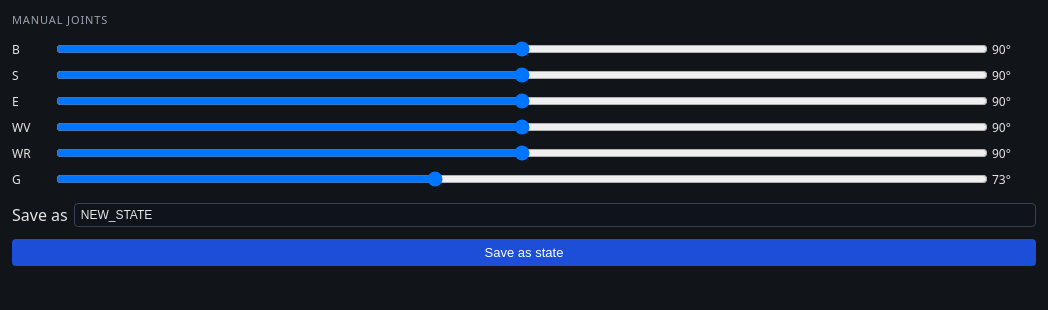
Test: ManualJointPanel › surfaces errors from api.saveState
Click the button with test id "manual-joint-save": [524, 252] box [12,239,1036,266]
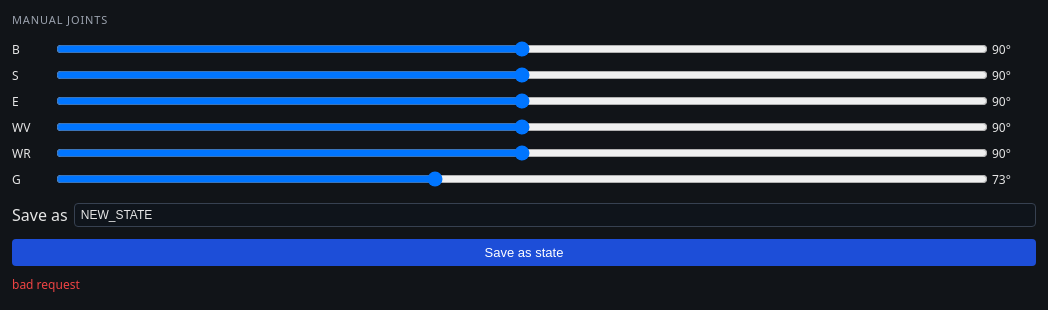
Expected: the text with test id "manual-joint-error" reads "bad request", [12,276,80,293]
